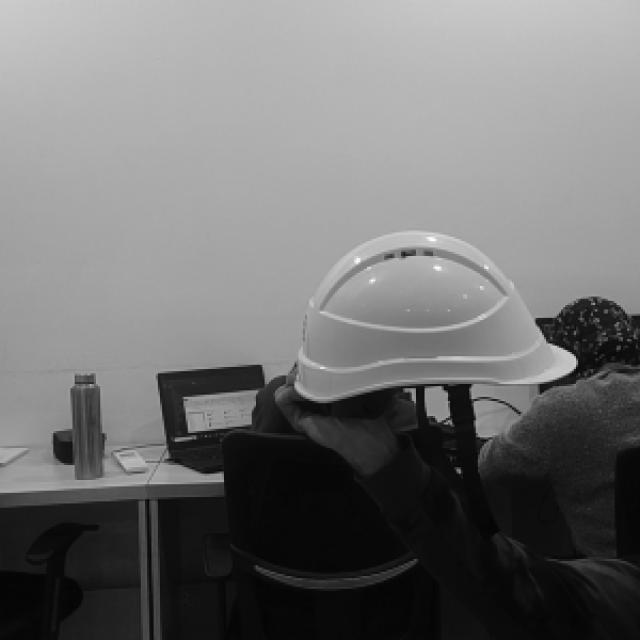safety_helmet: (293, 230, 577, 406)
